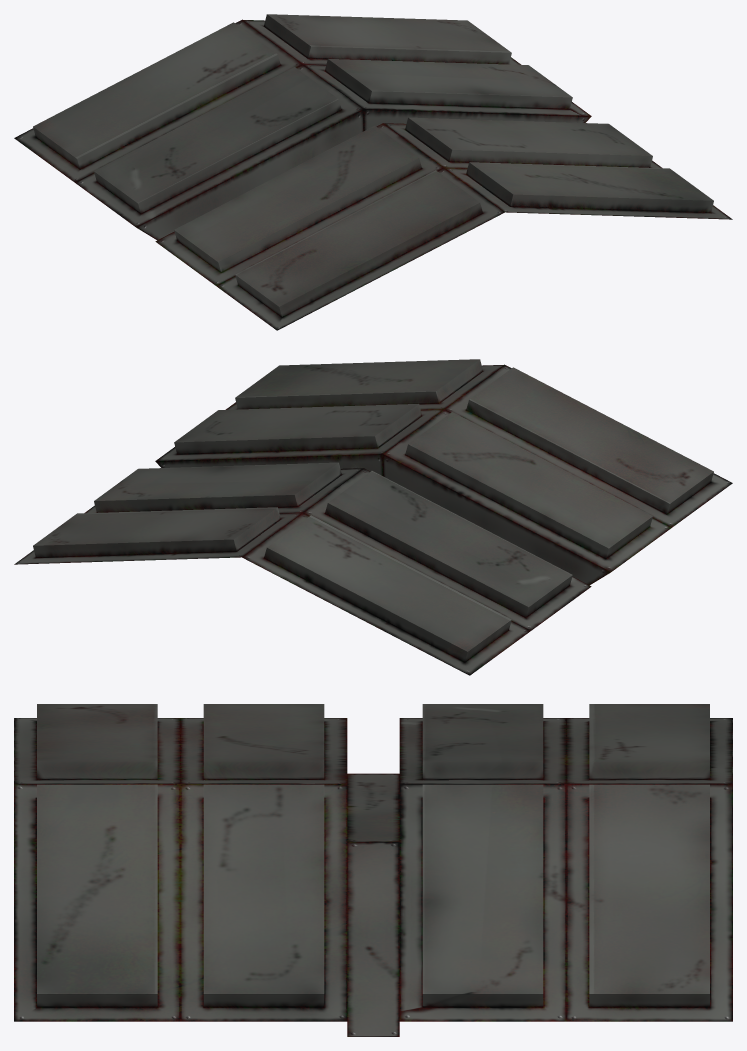
File: StraightTunnel Celling.fbx
The picture shows the model from 3 angles, top to bottom: view 1: azimuth 30°, elevation 25°; view 2: azimuth 150°, elevation 25°; view 3: azimuth 270°, elevation 25°; orthographic projection. The views are drawn at different scales.
Visible parts, largest first — view 1: Celing; view 2: Celing; view 3: Celing.
Boxes of the visible parts, x1,y1,x2,y2 form: Celing: (14,14,732,330); Celing: (14,359,732,675); Celing: (14,704,732,1036).
Bounding box in the file's own units: 1000 × 1000 × 202.
